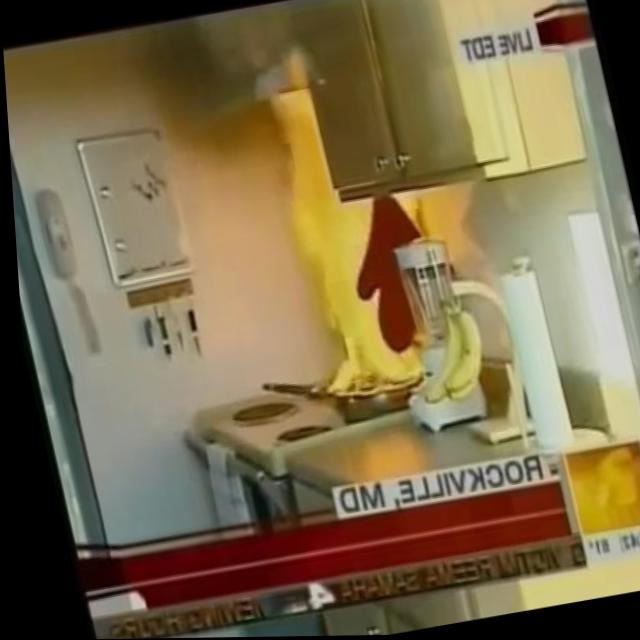fire: (285, 186, 408, 401)
